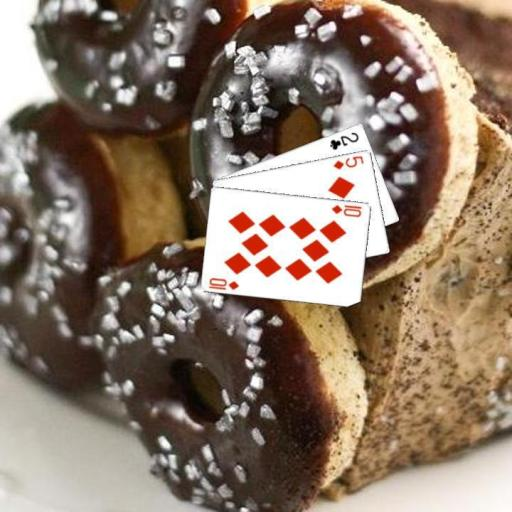card-corner: (326, 128, 360, 152), (330, 152, 364, 171), (206, 274, 241, 292), (328, 202, 364, 218)
